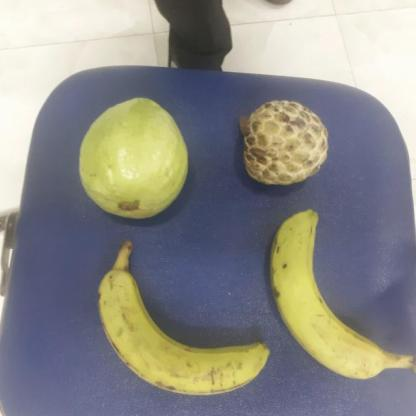annona: (235, 98, 329, 185)
banana: (90, 267, 271, 394), (265, 212, 390, 381)
guava: (72, 100, 186, 217)
